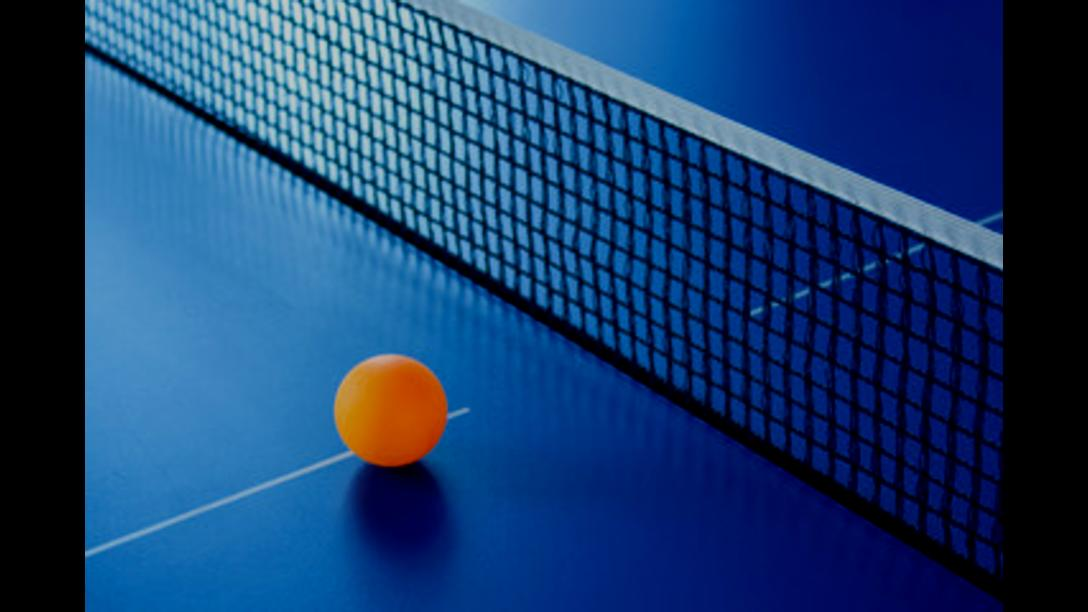Table-Tennis-Ball: (336, 355, 446, 464)
